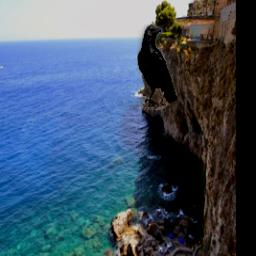Crow: (137, 25, 177, 110)
